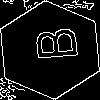B: (25, 25, 78, 63)
